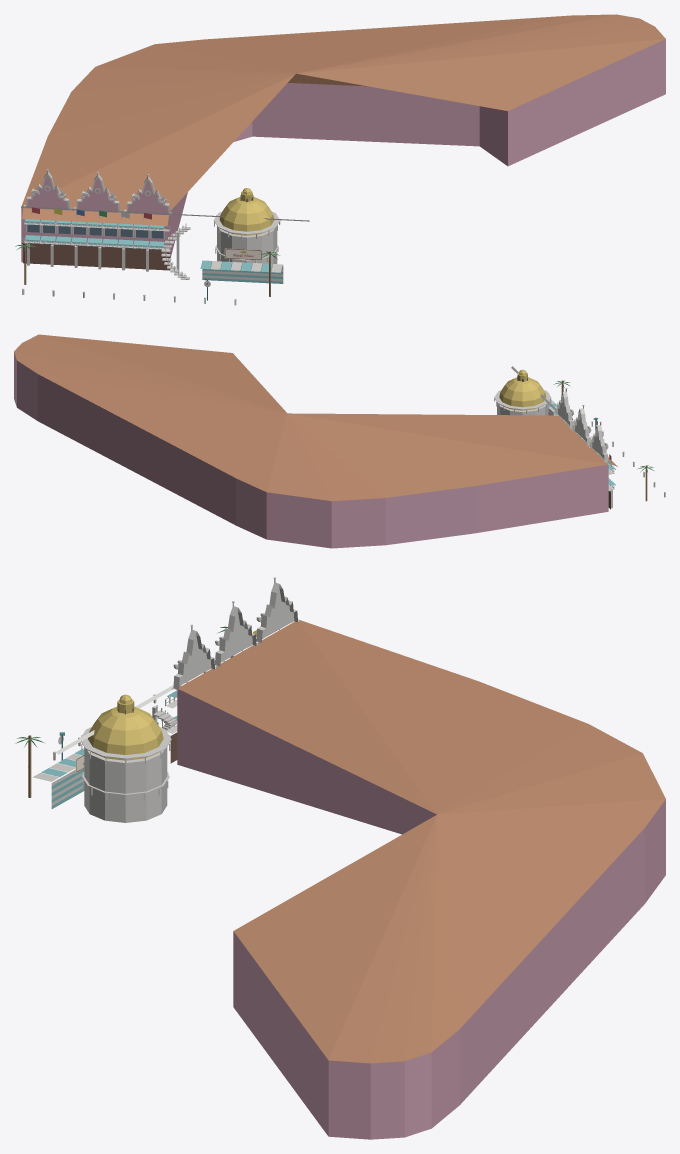
Rendered from royalplaza.glb.
The picture shows the model from 3 angles, top to bottom: view 1: azimuth 30°, elevation 25°; view 2: azimuth 150°, elevation 25°; view 3: azimuth 270°, elevation 25°; orthographic projection. The views are drawn at different scales.
Parts seen in each view (by area): view 1: royalplaza_lod0; view 2: royalplaza_lod0; view 3: royalplaza_lod0.
Part boxes in pixels (x1,y1,x2,y2): royalplaza_lod0: (15, 14, 665, 305); royalplaza_lod0: (14, 334, 665, 548); royalplaza_lod0: (15, 577, 665, 1139).
Size of what is drawn, in the model's own units: 110 by 14.32 by 65.11.
3 materials, 1 textured.
